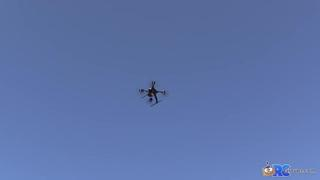UAV: (140, 81, 166, 107)
